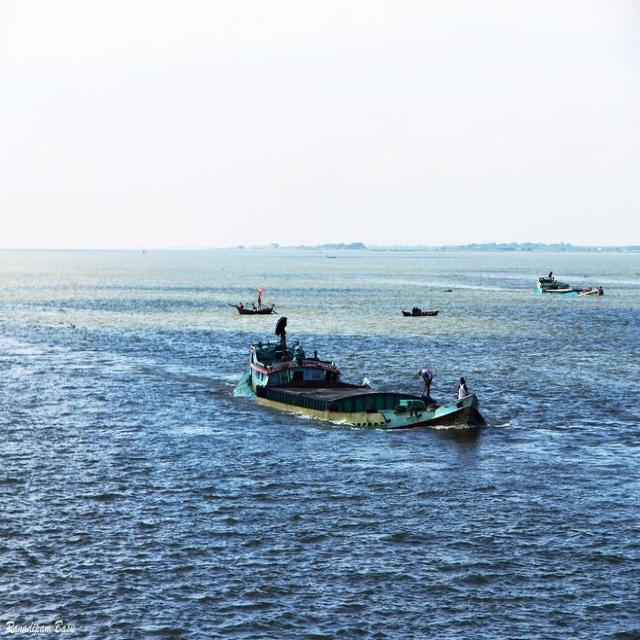boat: (240, 346, 409, 434), (534, 270, 602, 304), (224, 292, 284, 320), (399, 304, 449, 324)
